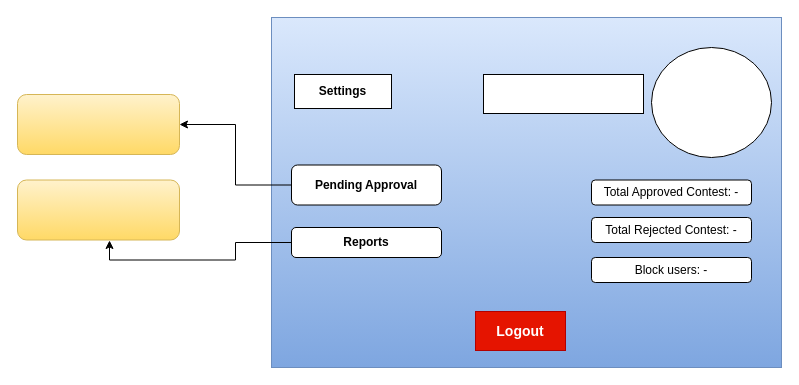
The diagram is 799 pixels wide and 385 high, and some of its shapes have lost their labels. The shapes that lost their labels are listed below. From the top down, each one's box as (x1, y1, x2, y2) in pixels, then its label:
(482, 74, 644, 114): User name
(650, 46, 772, 158): Admin Picture
(16, 94, 180, 154): Status: Approved/Rejected
(16, 179, 180, 240): Send Notification
